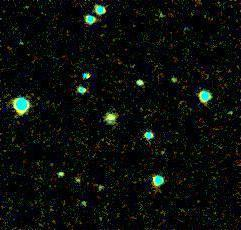star: (99, 104, 129, 134)
